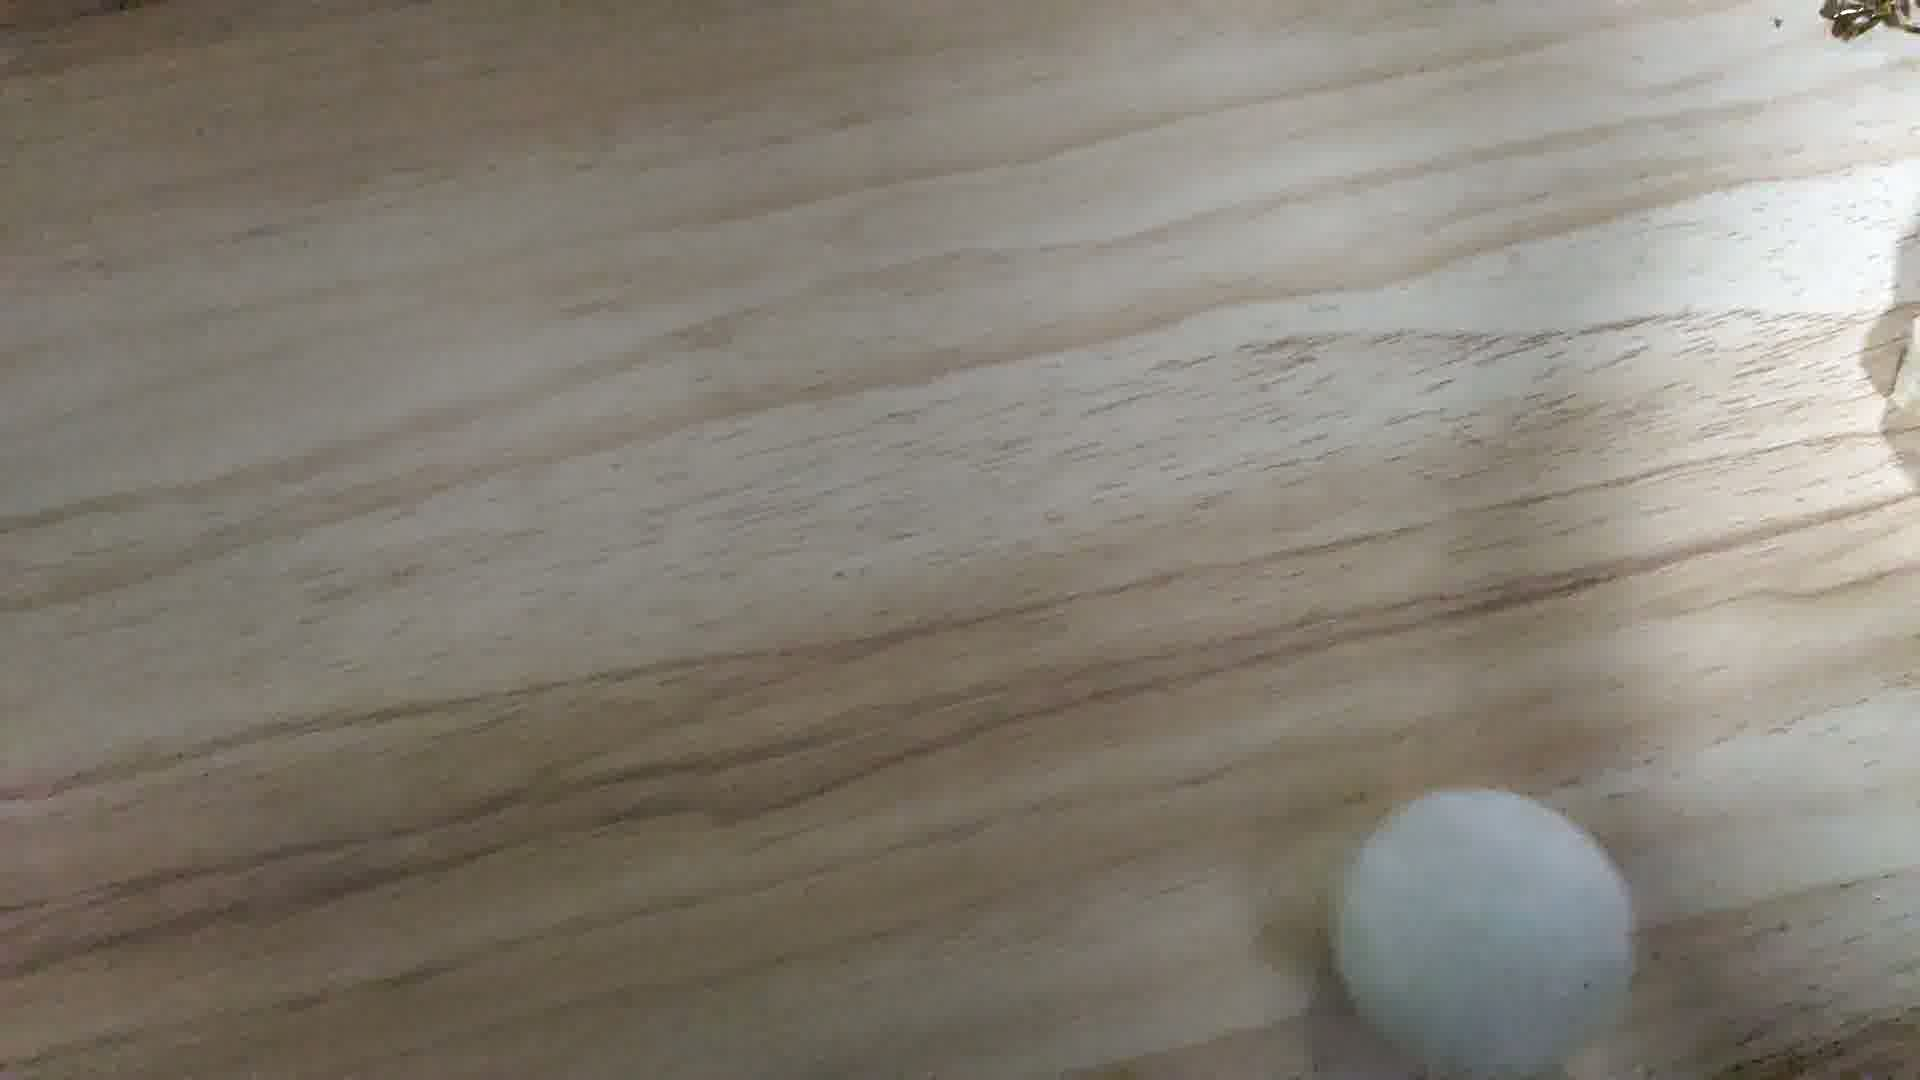Ball: (1338, 785, 1638, 1080)
